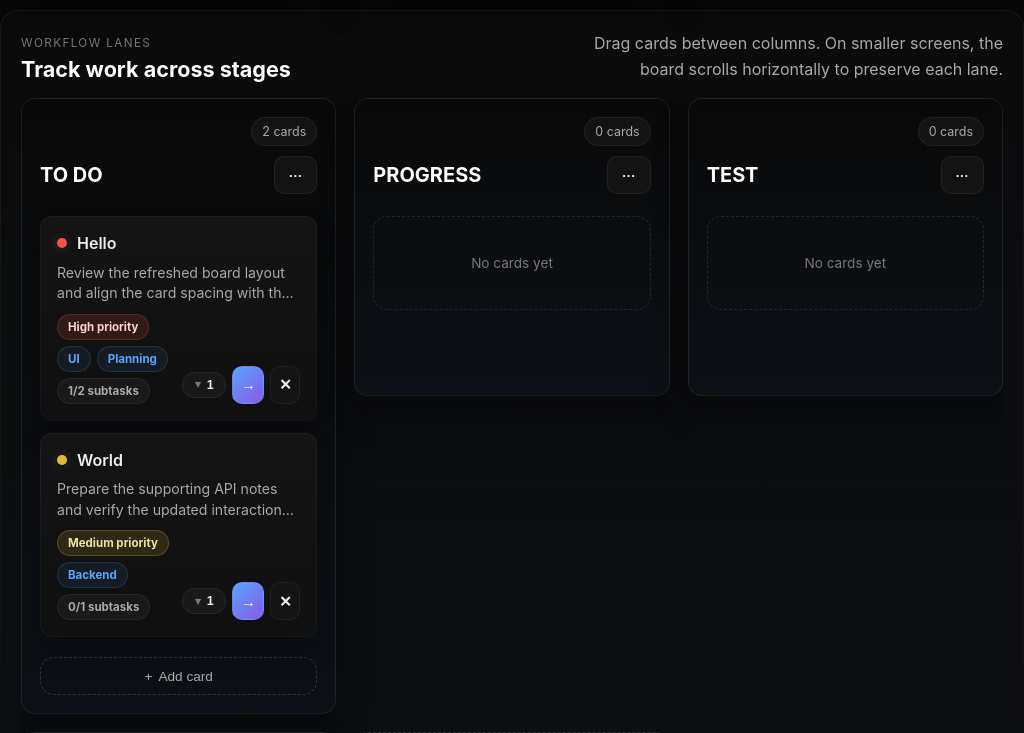
Scenario: opens the story point selector and applies a direct estimate
(page scrolled)
Click the button named "story points for hello".
click(204, 385)  # box [182,372,226,398]
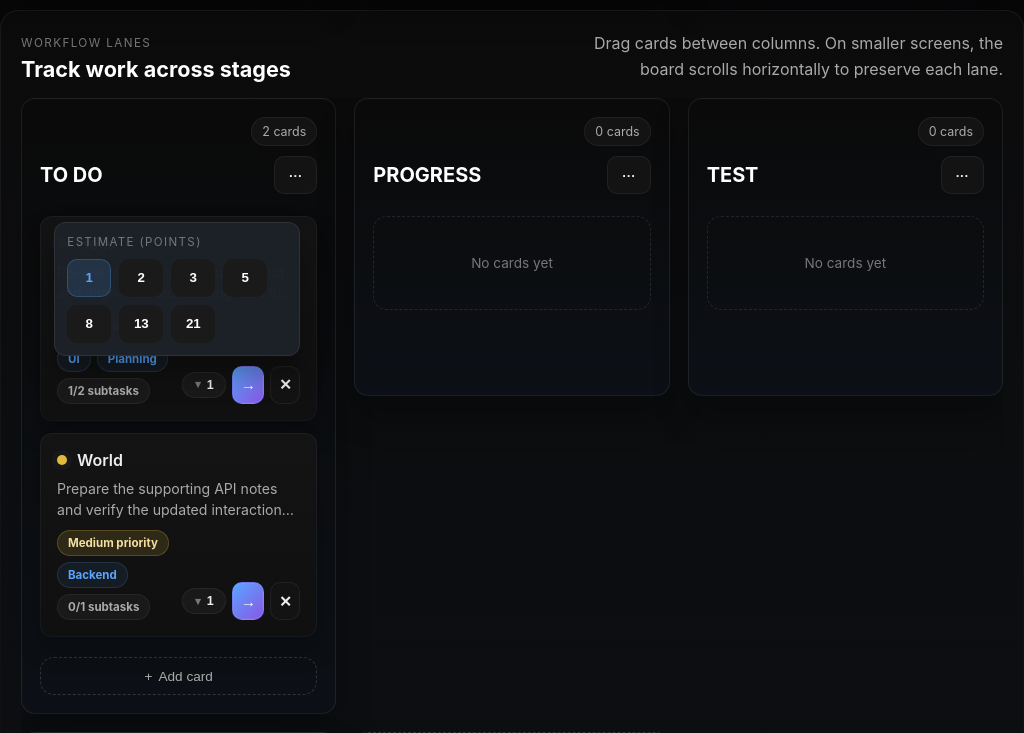
Click the button named "set 8 story points for hello".
click(89, 324)  # box [67,305,111,343]
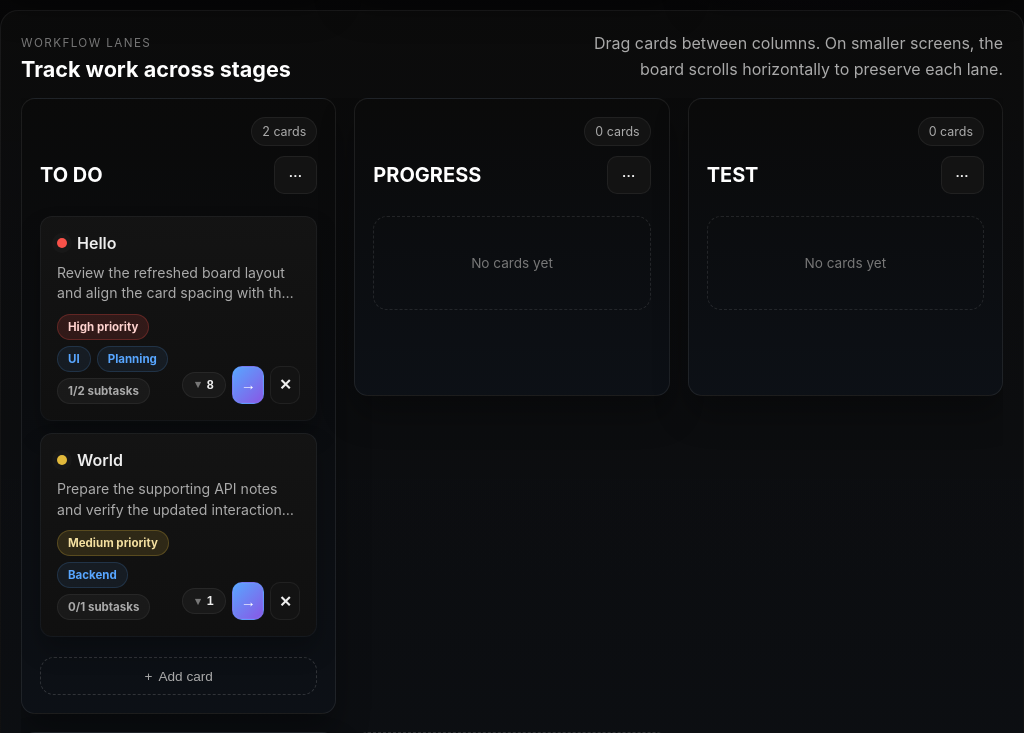
Result: the text "8" is shown at [207,378,214,392]
